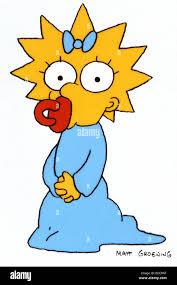Maggie: (8, 2, 172, 262)
